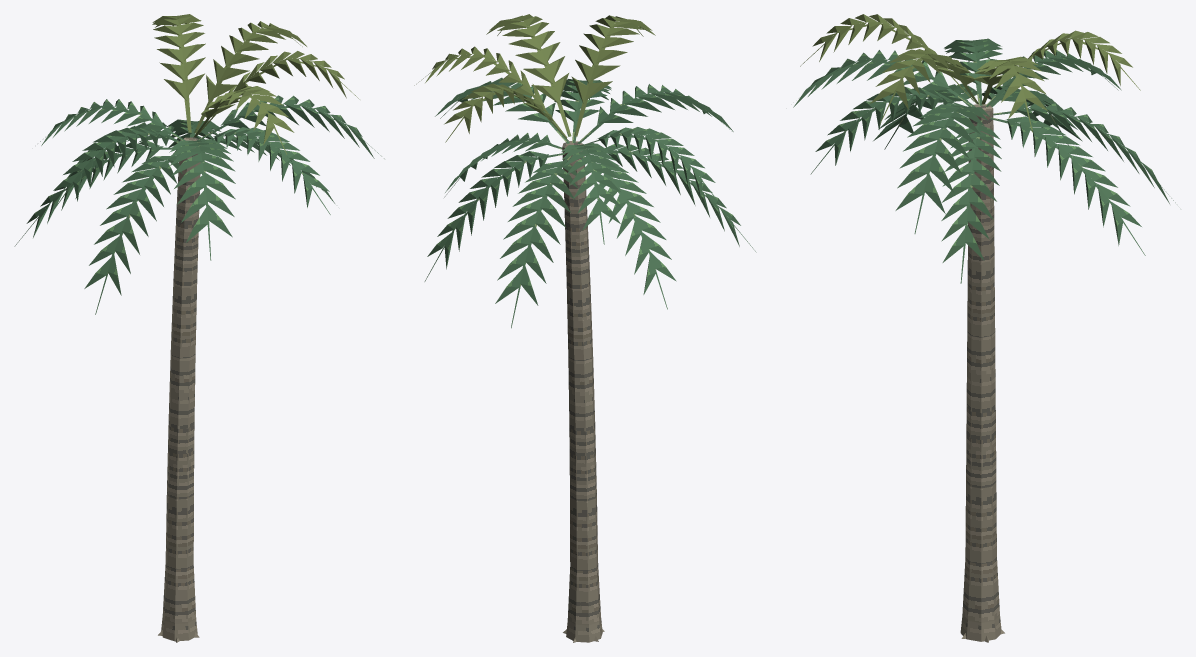
Rendered from queen.glb.
3 renders of one model, left to right at view 1: azimuth 30°, elevation 25°; view 2: azimuth 150°, elevation 25°; view 3: azimuth 270°, elevation 25°, orthographic. The views are drawn at different scales.
Visible parts, largest first — view 1: crown_queen, trunk_queen; view 2: crown_queen, trunk_queen; view 3: crown_queen, trunk_queen.
Part boxes in pixels (x1=…): crown_queen: x1=14, y1=14, x2=384, y2=314; trunk_queen: x1=158, y1=137, x2=200, y2=642; crown_queen: x1=414, y1=14, x2=756, y2=328; trunk_queen: x1=562, y1=141, x2=604, y2=642; crown_queen: x1=793, y1=14, x2=1175, y2=283; trunk_queen: x1=960, y1=104, x2=1004, y2=642.
Bounding box in the file's own units: 7.04 × 12.59 × 7.25.
Materials: 2 (2 with a texture image).
